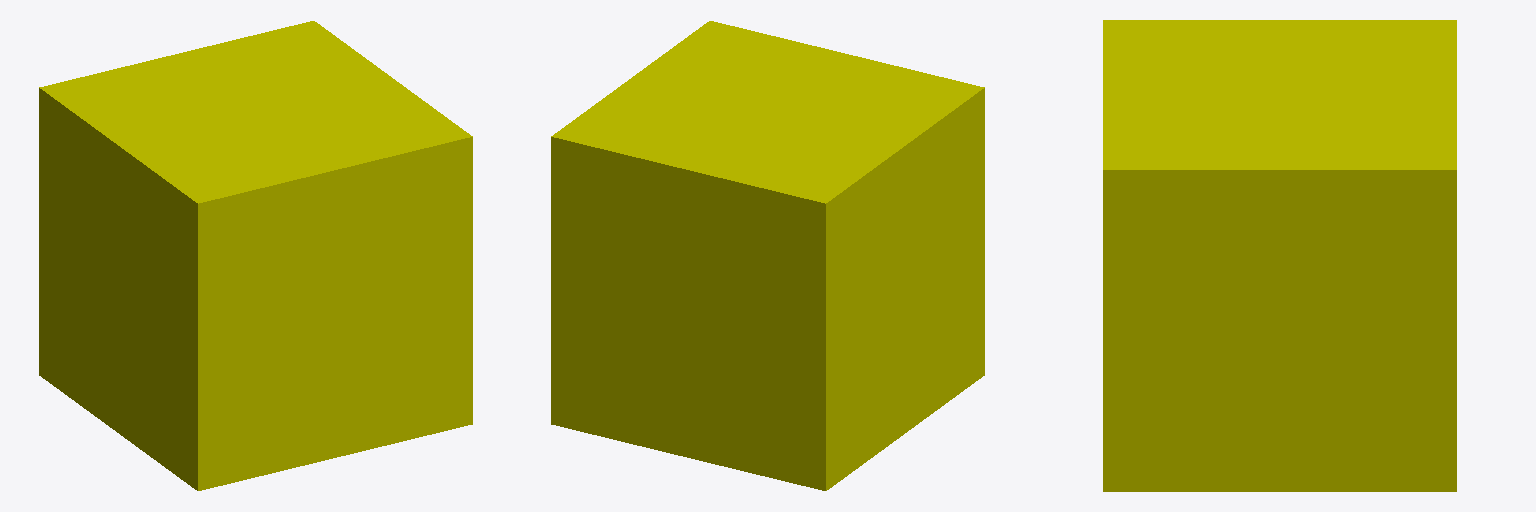
robot.urdf — urdf_robot:
<?xml version="0.0" ?>
<robot name="urdf_robot">

  <material name="yellow">
    <color rgba="0.8 0.8 0 1"/>
  </material>

  <link name="base_link">
    <contact>
      <lateral_friction value="1.0"/>
      <spinning_friction value="0.3"/>
      <inertia_scaling value="3.0"/>
    </contact>
    <inertial>
      <origin rpy="0 0 0" xyz="0 0 0"/>
      <mass value=".1"/>
      <inertia ixx="1" ixy="0" ixz="0" iyy="1" iyz="0" izz="1"/>
    </inertial>

    <collision>
      <origin rpy="0 0 0" xyz="0 0 0"/>
      <geometry>
        <box size="0.05 0.05 0.05"/>
      </geometry>
    </collision>
    <visual>
      <origin rpy="0 0 0" xyz="0 0 0"/>
      <material name="yellow"/>
      <geometry>
        <box size="0.05 0.05 0.05"/>
      </geometry>
    </visual>
  </link>
</robot>

--- Facts derived from the render (not from the file) ---
3 views of the same robot in one strip: view 1: azimuth 30°, elevation 25°; view 2: azimuth 150°, elevation 25°; view 3: azimuth 270°, elevation 25° (orthographic).
Robot: urdf_robot — 1 links, 0 joints (none); root link base_link; default pose: all joints at 0.
Visible links, largest first — view 1: base_link; view 2: base_link; view 3: base_link.
Boxes of the visible links, x1,y1,x2,y2 form: base_link: (39,21,472,490); base_link: (551,21,984,490); base_link: (1103,20,1456,491).
Bounding box of the posed robot: 0.05 × 0.05 × 0.05 m (x, y, z).
Geometry: primitives only (box / cylinder / sphere), no mesh files.